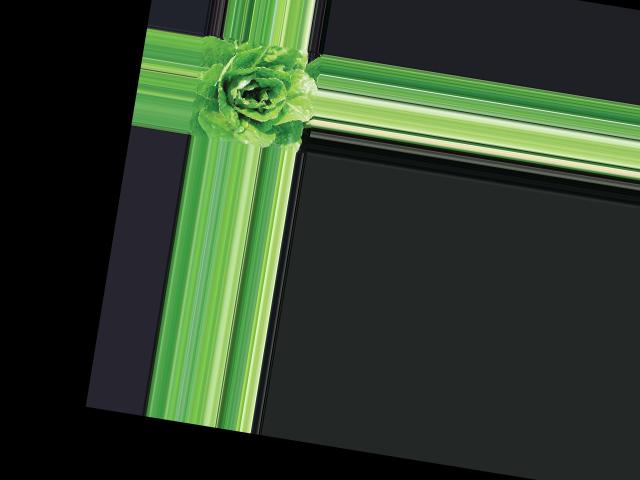lettuce: (189, 33, 318, 150)
